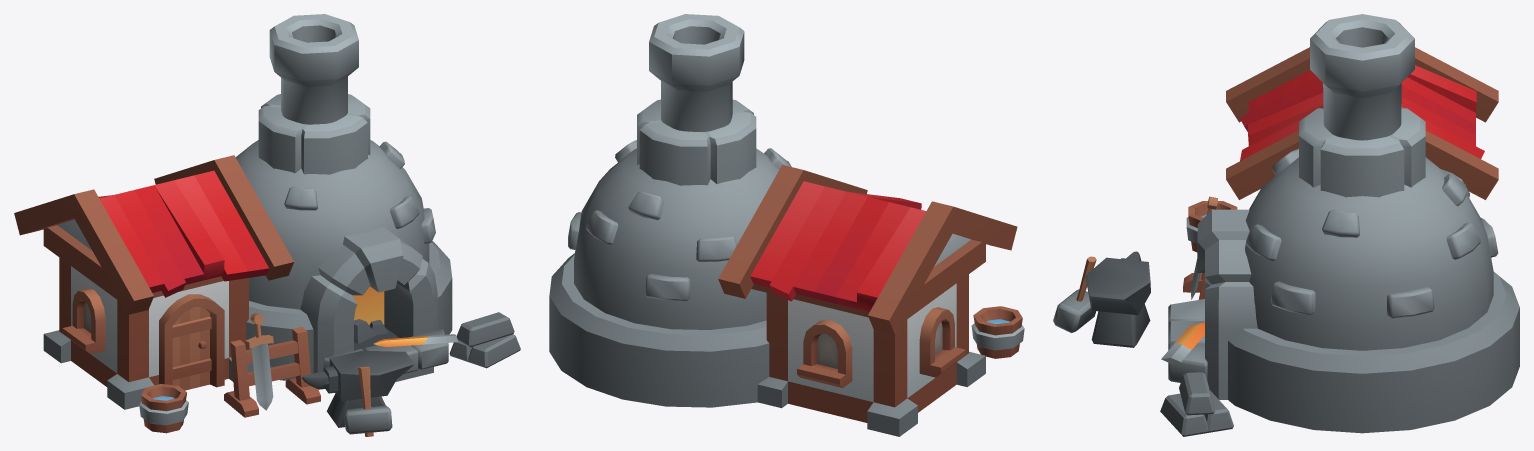
The model's file is building_blacksmith_red.glb.
The picture shows the model from 3 angles, left to right: view 1: azimuth 30°, elevation 25°; view 2: azimuth 150°, elevation 25°; view 3: azimuth 270°, elevation 25°; orthographic projection. The views are drawn at different scales.
Visible parts, largest first — view 1: building_blacksmith_red; view 2: building_blacksmith_red; view 3: building_blacksmith_red.
Boxes of the visible parts, box(x1,y1,x2,y2) form: building_blacksmith_red: box(14, 14, 520, 436); building_blacksmith_red: box(549, 14, 1024, 436); building_blacksmith_red: box(1053, 14, 1519, 436).
Bounding box in the file's own units: 1.29 × 0.9851 × 1.25.
Materials: 1 (1 with a texture image).
